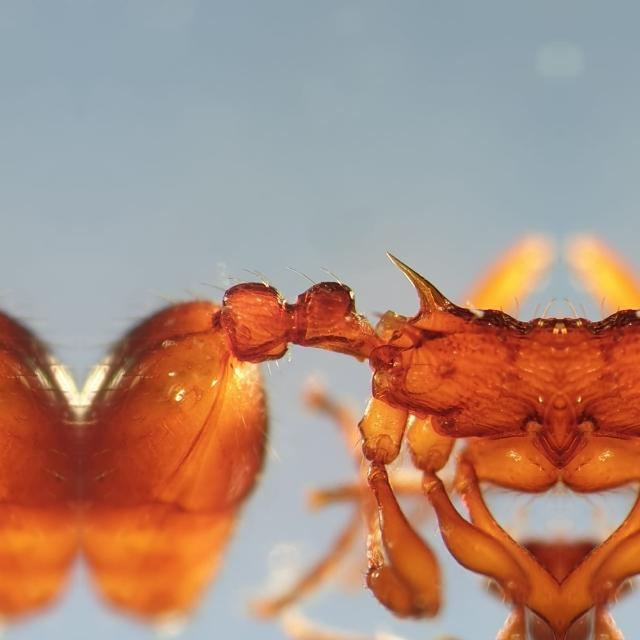Myrmica: (80, 128, 560, 640)
